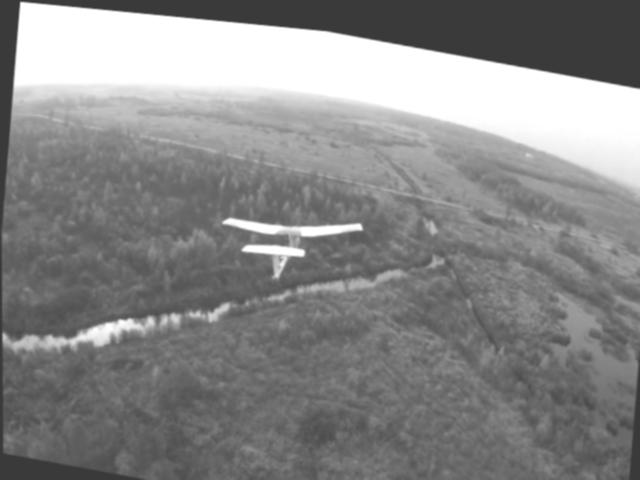hedef: (219, 188, 356, 287)
